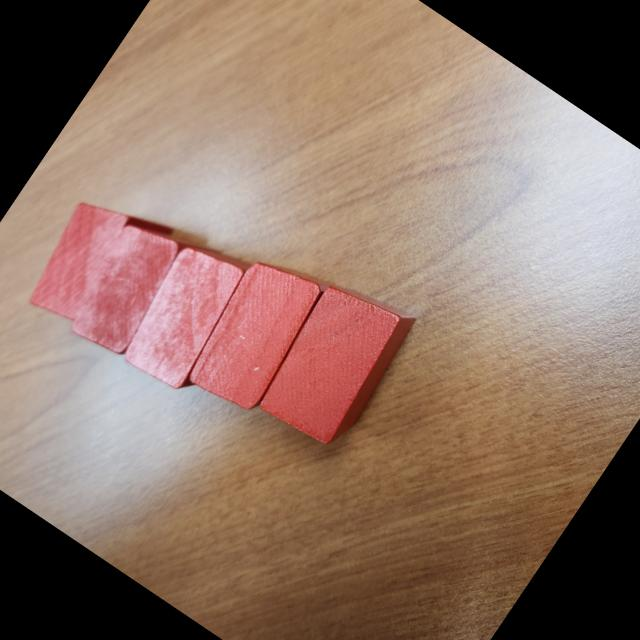red: (248, 266, 425, 459), (174, 239, 340, 425), (58, 200, 220, 378), (109, 226, 265, 400), (17, 177, 175, 348)
